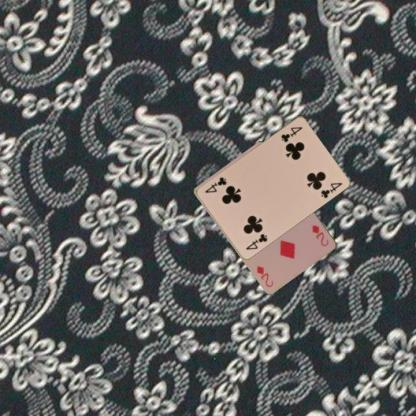2d: (310, 222, 330, 248)
4c: (243, 230, 269, 250), (278, 124, 304, 143)
